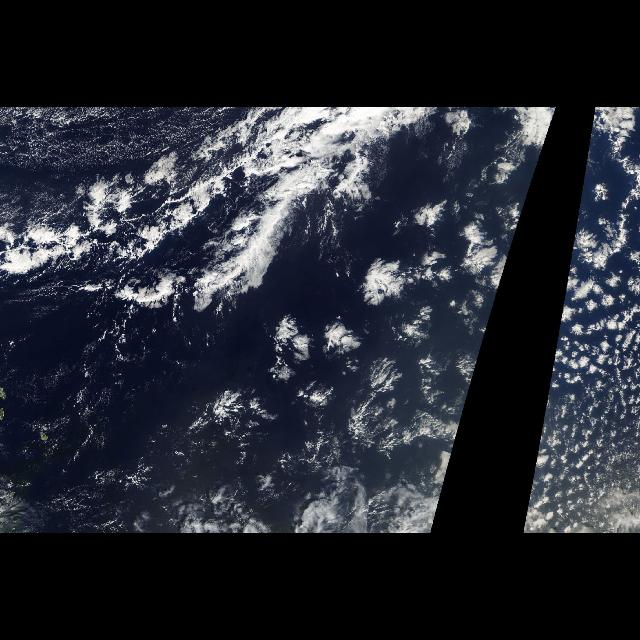Flower: (270, 203, 524, 533), (522, 203, 640, 533)
Sugar: (1, 108, 199, 215)
